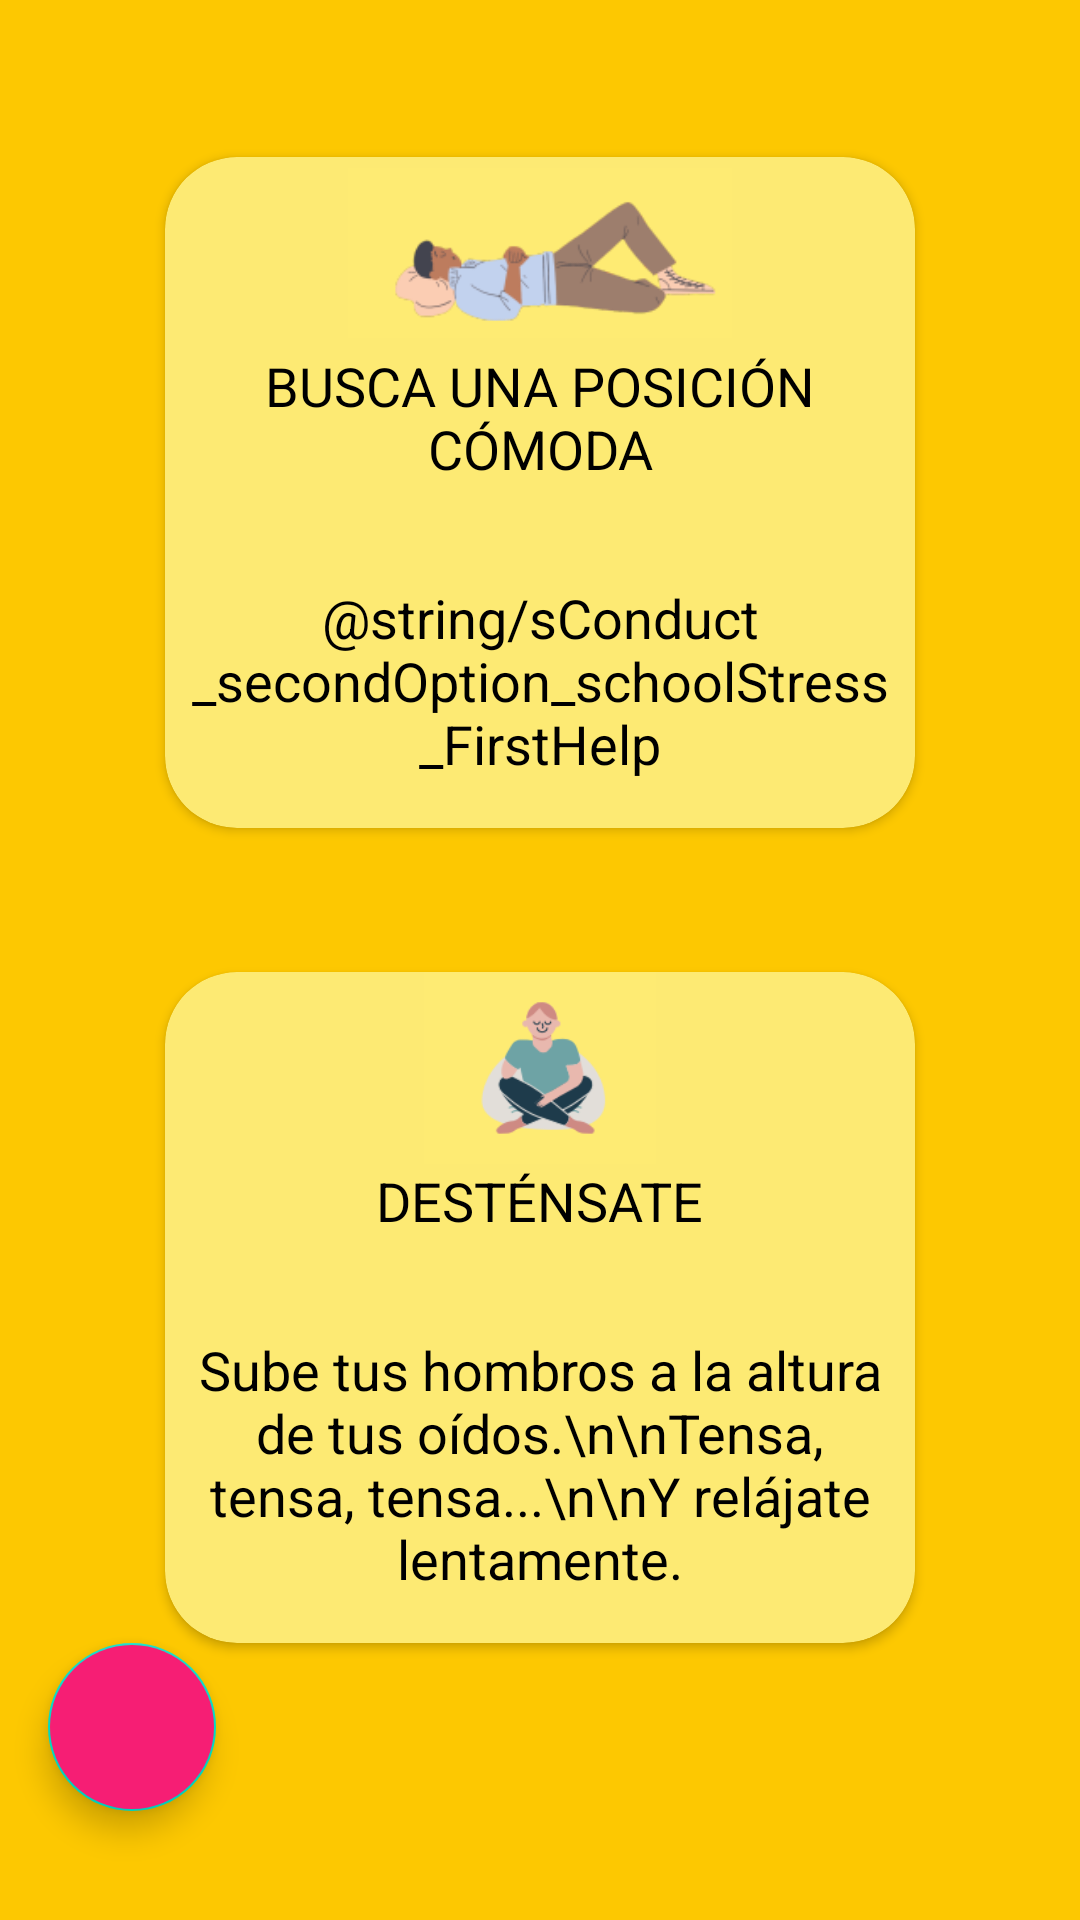

Icon bounding boxes for this 1080 x 1920 phone screenshot, format bbox=[x1, y1, x2, y2]:
sit: bbox=[481, 1002, 605, 1134]
sleep: bbox=[395, 202, 715, 321]
